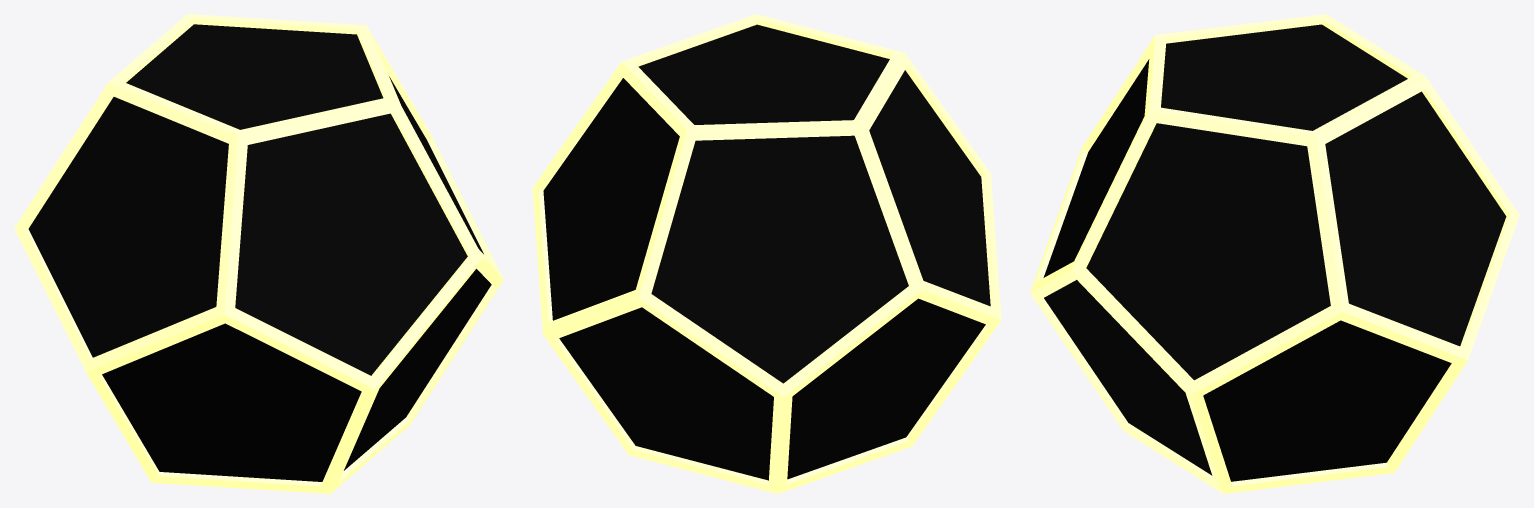
File: SFI0210015.fbx
3 renders of one model, left to right at view 1: azimuth 30°, elevation 25°; view 2: azimuth 150°, elevation 25°; view 3: azimuth 270°, elevation 25°, orthographic. The views are drawn at different scales.
Parts seen in each view (by area): view 1: smSFI0210015; view 2: smSFI0210015; view 3: smSFI0210015.
Boxes of the visible parts, x1=… form: smSFI0210015: x1=14, y1=14, x2=503, y2=493; smSFI0210015: x1=532, y1=14, x2=1001, y2=493; smSFI0210015: x1=1030, y1=14, x2=1519, y2=493.
Size of the model in its own units: 134 by 113 by 139.
